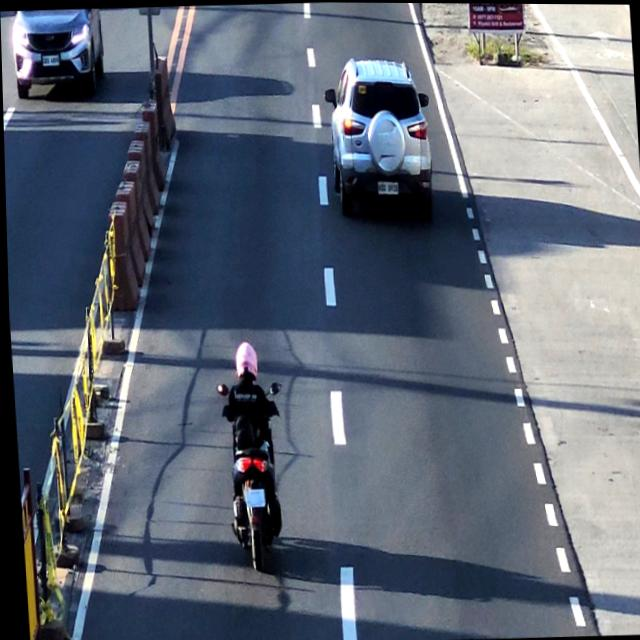Car: (323, 54, 433, 214)
License-Plate: (375, 175, 399, 197), (238, 489, 264, 506)
Motorcycle: (216, 339, 284, 574)
